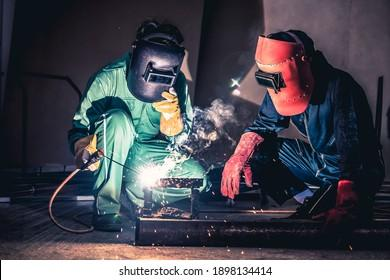gloves: (219, 132, 266, 196), (313, 179, 362, 233), (152, 87, 185, 135)
